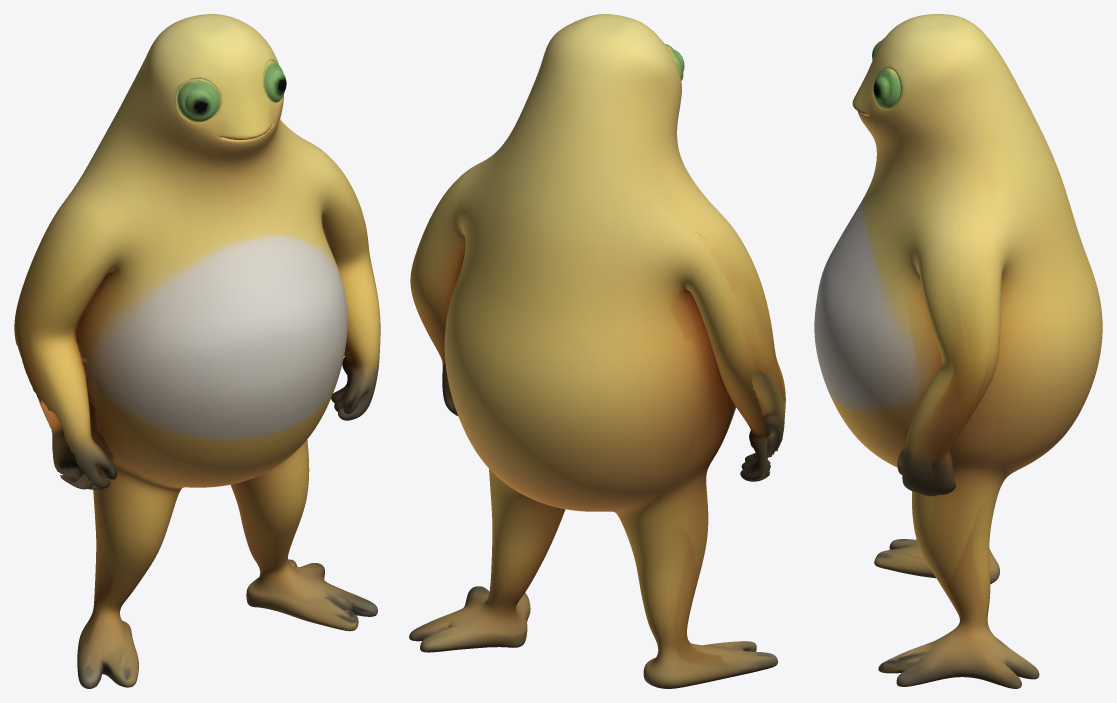
File: nailong.glb
3 renders of one model, left to right at view 1: azimuth 30°, elevation 25°; view 2: azimuth 150°, elevation 25°; view 3: azimuth 270°, elevation 25°, orthographic. The views are drawn at different scales.
Parts seen in each view (by area): view 1: Nailong | optimized Blender model; view 2: Nailong | optimized Blender model; view 3: Nailong | optimized Blender model.
Boxes of the visible parts, box(x1,y1,x2,y2) form: Nailong | optimized Blender model: box(14, 14, 380, 688); Nailong | optimized Blender model: box(409, 14, 785, 688); Nailong | optimized Blender model: box(814, 14, 1102, 688).
Size of the model in its own units: 0.3762 by 0.6297 by 0.2763.
Materials: 1 (1 with a texture image).
